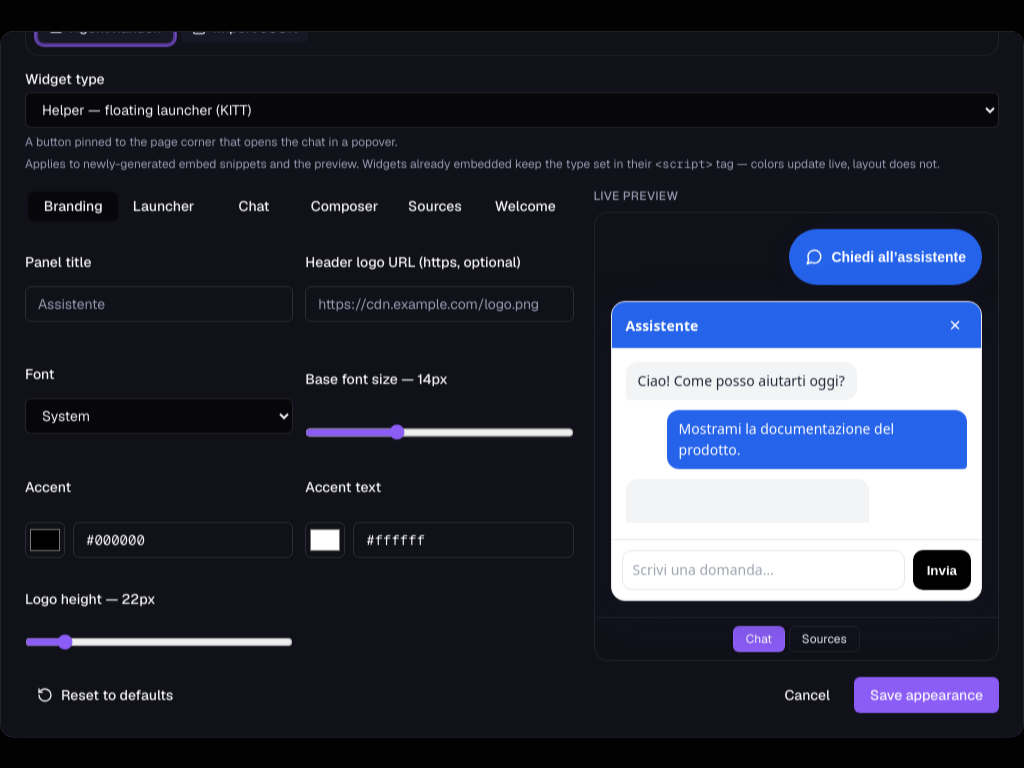
it: WidgetAppearanceDialog › surfaces a 422 error in the DOM (R14)
The width and height of the screenshot is (1024, 768).
(page scrolled)
What coordinates should you click on to do the following:
click the button with test id "admin-widget-appearance-save"
I would click on:
 (926, 695)
Its box is [854,677,999,713].
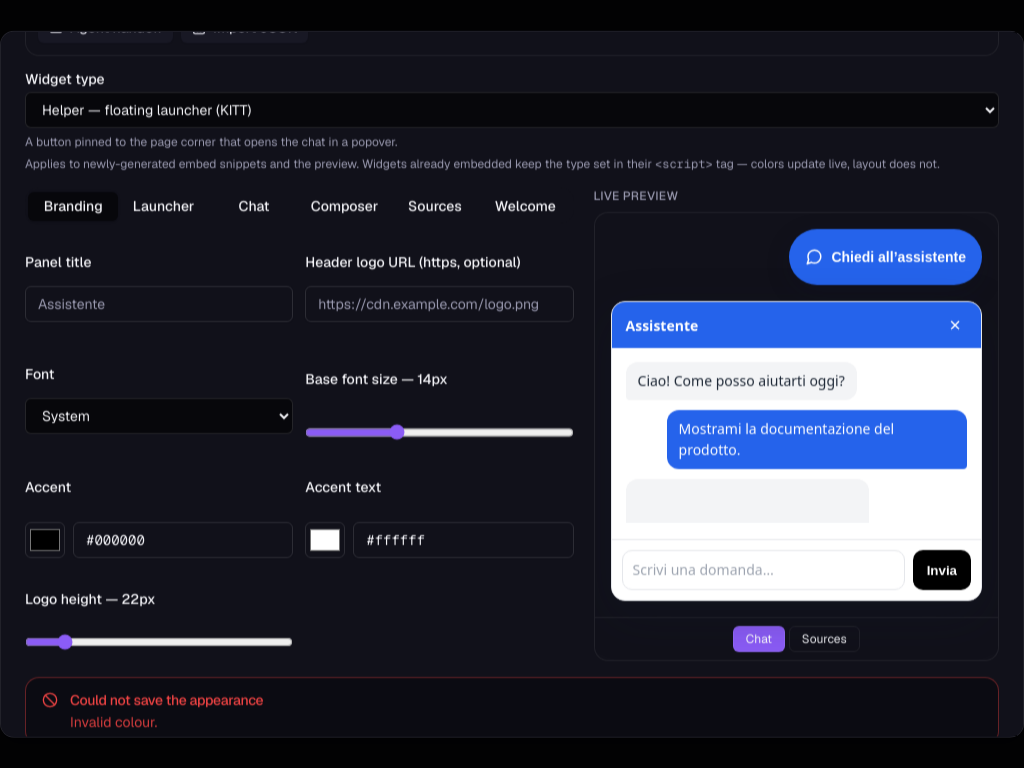
Result: the message with test id "admin-widget-appearance-error" shows "Invalid colour." at [70,713,157,731]
